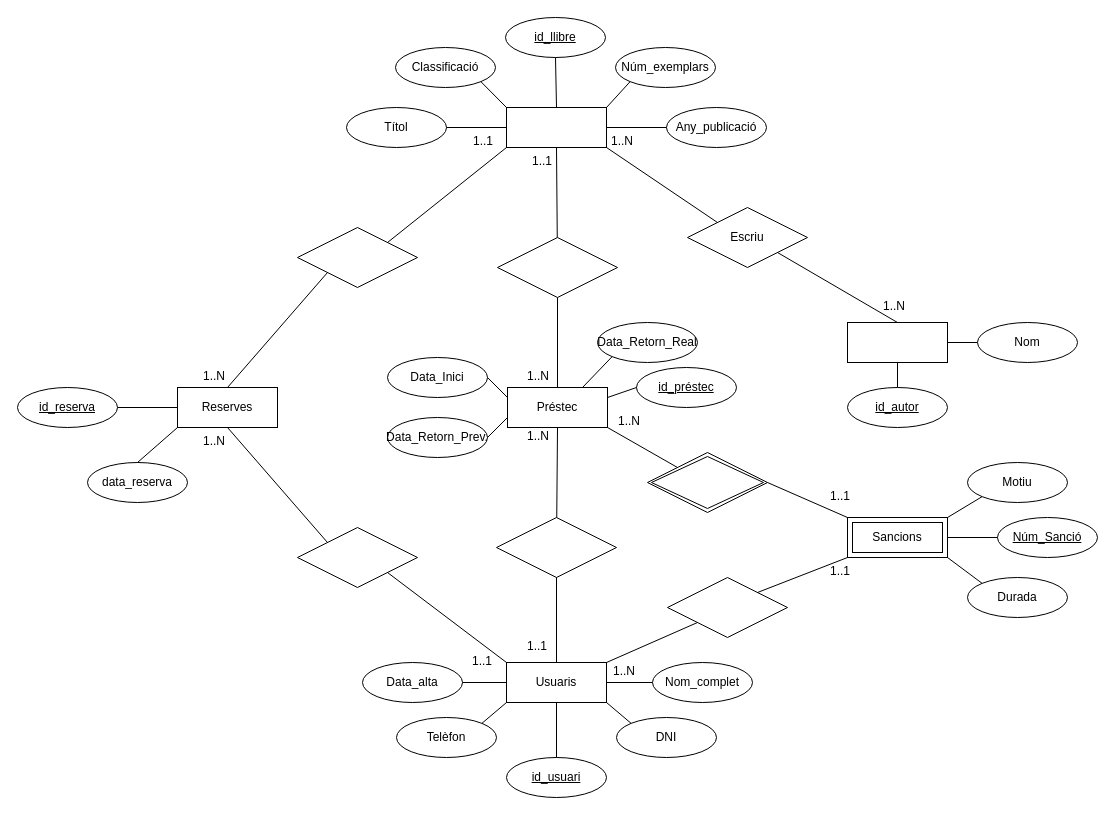
Some shapes in this 1115 by 815 pixel diagram are drawn without their labels. The centre of each missing label's shape, as x and y in pixels:
Autor: (x=897, y=342)
Conté: (x=557, y=267)
Demana: (x=556, y=547)
Fan: (x=357, y=557)
Generen: (x=707, y=482)
Llibres: (x=556, y=127)
Són: (x=357, y=257)
Tenen: (x=727, y=607)
